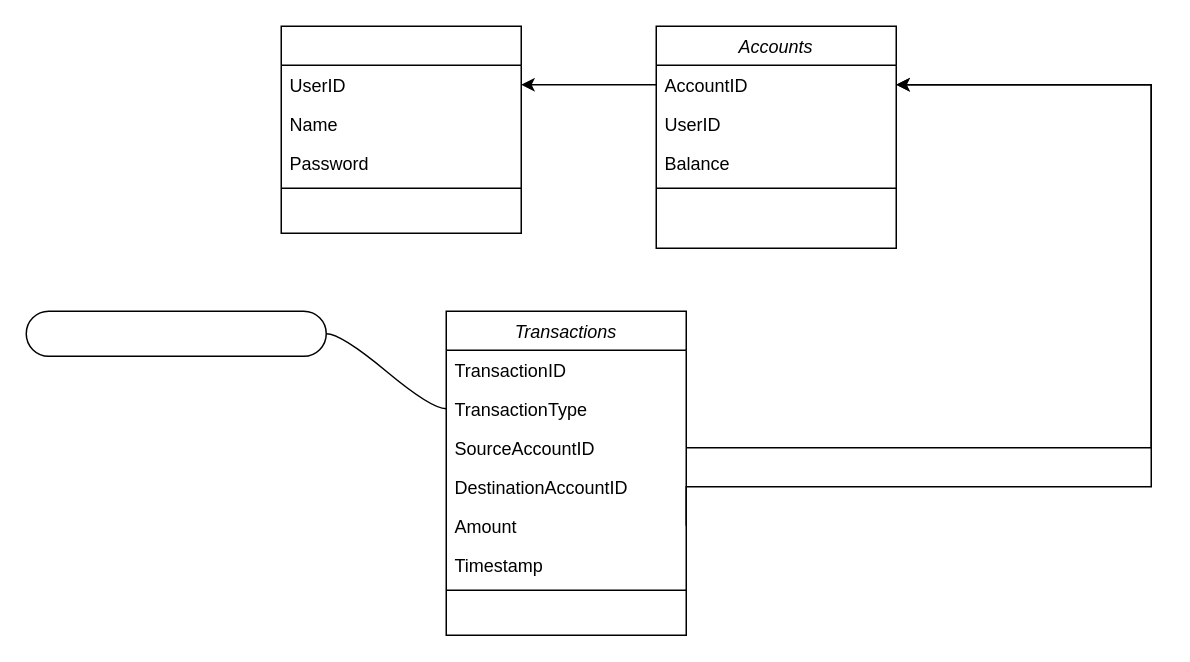
The diagram is 1190 pixels wide and 662 high, and some of its shapes have lost their labels. The box of each missing label's shape, as (x1, y1, x2, y2) in pixels:
Deposit, Withdrawal, Transfer: (25, 310, 326, 356)
Users: (280, 25, 521, 233)
